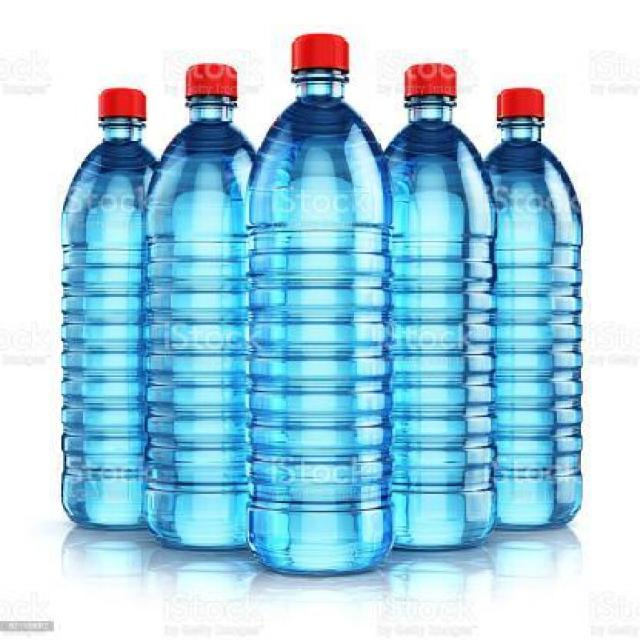bottle: (237, 43, 382, 579), (379, 62, 493, 561), (138, 56, 250, 563), (484, 78, 594, 576), (52, 66, 150, 564)
